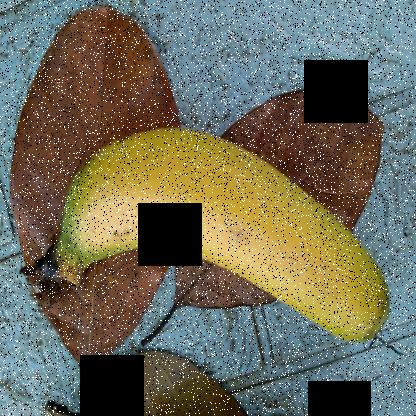freshripe: (53, 107, 395, 393)
